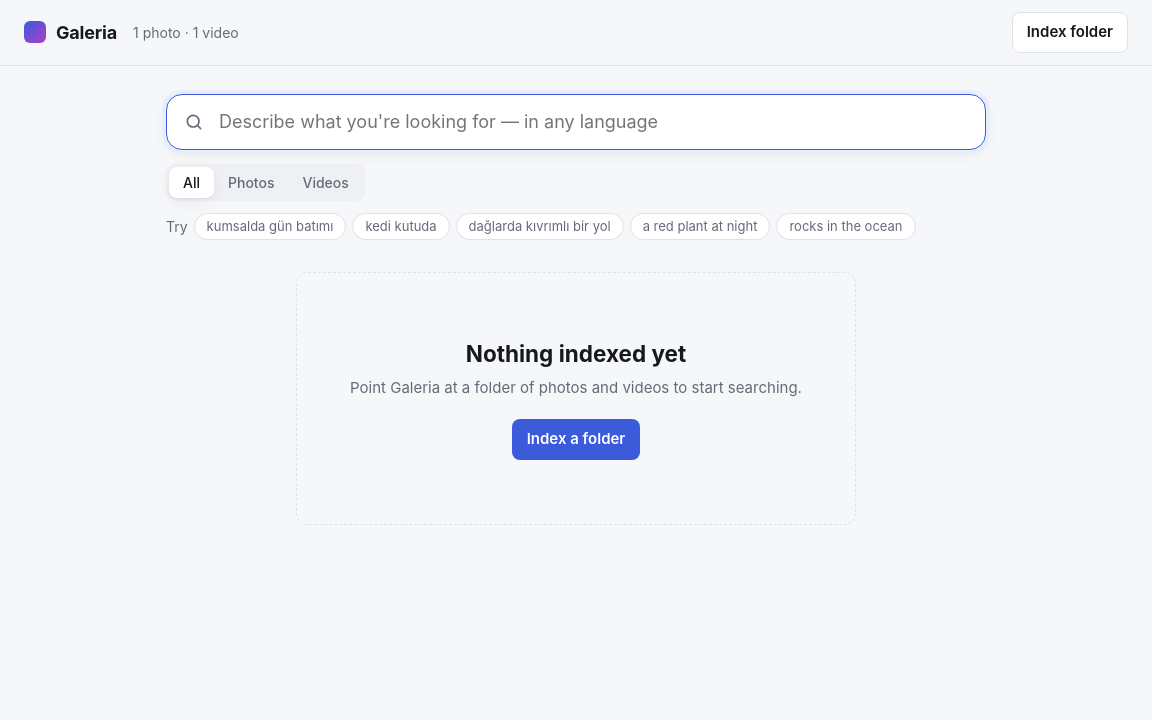
Test: the indexing panel offers the server's allowed folder (Docker's /media)
Click the button "Index a folder" at (576, 440), box x1=512 y1=419 x2=640 y2=460
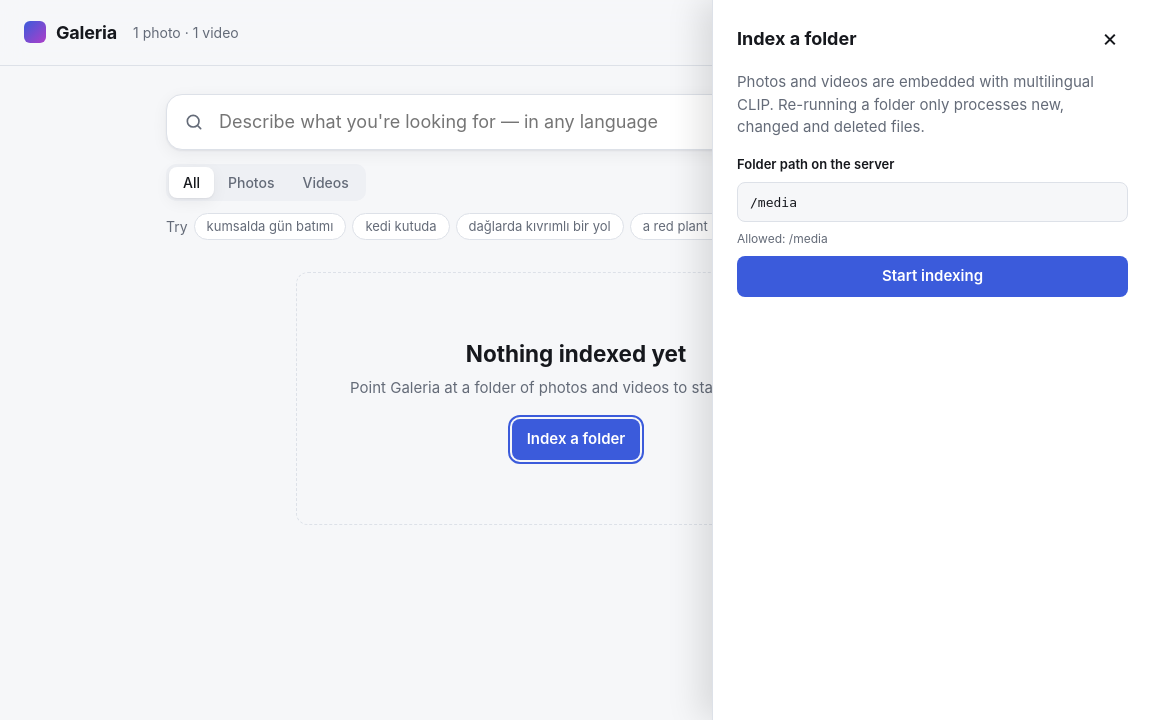
Now the field labelled "Folder path on the server" holds "/media", box x1=737 y1=182 x2=1128 y2=222
Now the text "Allowed: /media" is shown, box x1=737 y1=231 x2=828 y2=246
